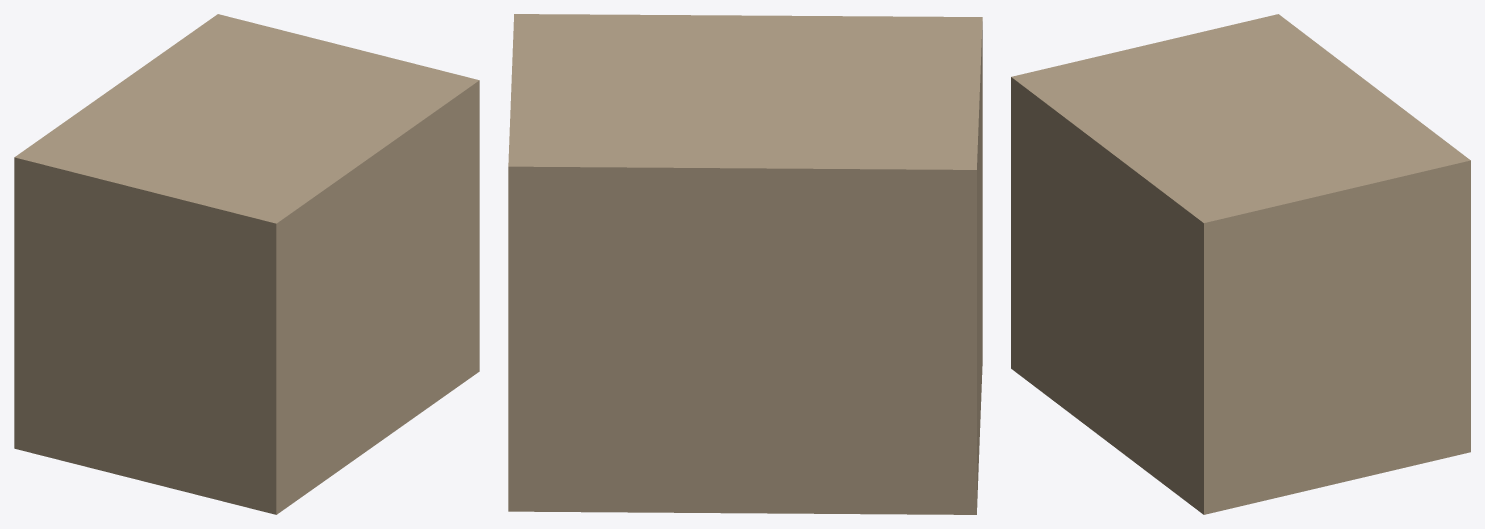
File: bld_163484481.dae
The picture shows the model from 3 angles, left to right: view 1: azimuth 30°, elevation 25°; view 2: azimuth 150°, elevation 25°; view 3: azimuth 270°, elevation 25°; orthographic projection. The views are drawn at different scales.
Visible parts, largest first — view 1: bld_163484481; view 2: bld_163484481; view 3: bld_163484481.
Part boxes in pixels (x1,y1,x2,y2): bld_163484481: (14,14,479,514); bld_163484481: (508,14,982,514); bld_163484481: (1011,14,1470,514).
Size of the model in its own units: 12.3 by 11.43 by 8.
